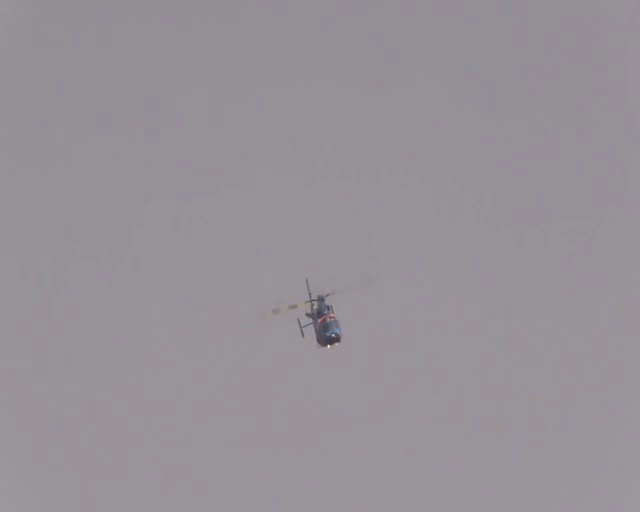HELICOPTER: (271, 277, 344, 348)
